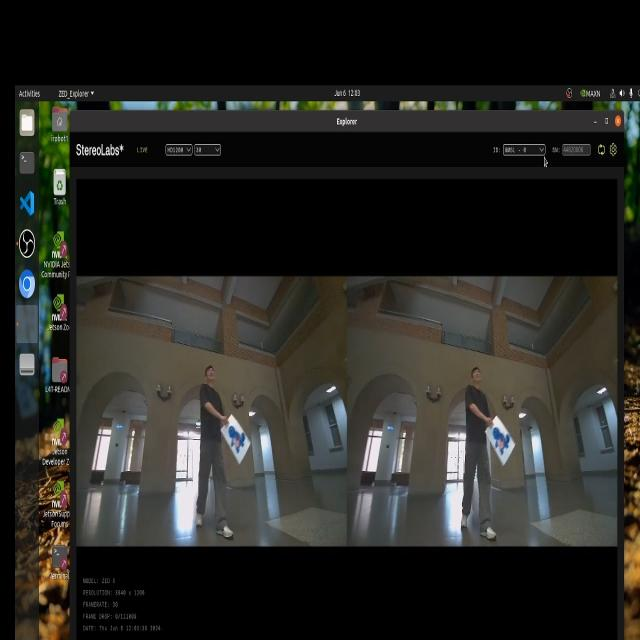blue: (220, 418, 247, 457), (494, 424, 514, 461)
